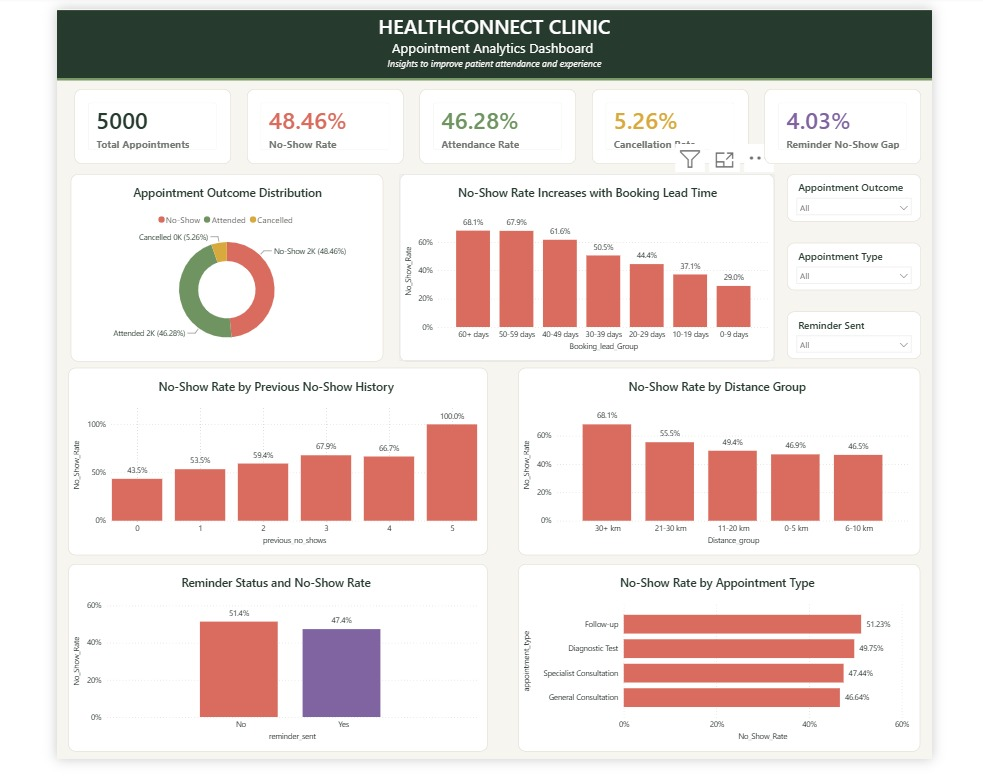

The dashboard page shown, as its layout file describes it:
{"tool":"powerbi","page":{"name":"HealthConnect Week 6 Dashboard","canvas":[1400,1200],"ordinal":3},"visuals":[{"type":"shape","box":[0,1.4,1400,110],"z":0},{"type":"textbox","title":"HEALTHCONNECT CLINIC","box":[0,0,1400,105.7],"z":1000},{"type":"shape","box":[0,105.7,1400,12.9],"z":2000},{"type":"cardVisual","fields":{"Data":["HealthConnect_Appointment_Data.Total_Appointments"]},"box":[27.1,128.1,250,120],"z":3000},{"type":"cardVisual","fields":{"Data":["HealthConnect_Appointment_Data.Attendance_Rate"]},"box":[579.3,128.1,250,120],"z":4000},{"type":"cardVisual","fields":{"Data":["HealthConnect_Appointment_Data.Cancellation_Rate"]},"box":[855.4,128.1,250,120],"z":5000},{"type":"cardVisual","fields":{"Data":["HealthConnect_Appointment_Data.No_Show_Rate"]},"box":[303.2,128.1,250,120],"z":6000},{"type":"donutChart","title":"Appointment Outcome Distribution","fields":{"Y":["HealthConnect_Appointment_Data.Total_Appointments"],"Category":["HealthConnect_Appointment_Data.appointment_outcome"]},"box":[21.4,263.7,500,300],"z":7000},{"type":"clusteredColumnChart","title":"No-Show Rate Increases with Booking Lead Time","fields":{"Category":["HealthConnect_Appointment_Data.Booking_lead_Group"],"Y":["HealthConnect_Appointment_Data.No_Show_Rate"]},"box":[548.6,263.7,600,300],"z":8000},{"type":"clusteredColumnChart","title":"No-Show Rate by Previous No-Show History","fields":{"Y":["HealthConnect_Appointment_Data.No_Show_Rate"],"Category":["HealthConnect_Appointment_Data.previous_no_shows"]},"box":[18.6,574.3,671.4,300],"z":9000},{"type":"clusteredColumnChart","title":"No-Show Rate by Distance Group","fields":{"Category":["HealthConnect_Appointment_Data.Distance_group"],"Y":["HealthConnect_Appointment_Data.No_Show_Rate"]},"box":[738.6,574.3,642.9,300],"z":10000},{"type":"clusteredColumnChart","title":"Reminder Status and No-Show Rate","fields":{"Category":["HealthConnect_Appointment_Data.reminder_sent"],"Y":["HealthConnect_Appointment_Data.No_Show_Rate"]},"box":[18.6,888.6,671.4,300],"z":11000},{"type":"clusteredBarChart","title":"No-Show Rate by Appointment Type","fields":{"Category":["HealthConnect_Appointment_Data.appointment_type"],"Y":["HealthConnect_Appointment_Data.No_Show_Rate"]},"box":[738.6,888.6,642.9,300],"z":12000},{"type":"slicer","fields":{"Values":["HealthConnect_Appointment_Data.appointment_outcome"]},"box":[1167.1,264.3,214.3,75.7],"z":13000},{"type":"slicer","fields":{"Values":["HealthConnect_Appointment_Data.appointment_type"]},"box":[1167.1,374.3,214.3,75.7],"z":14000},{"type":"slicer","fields":{"Values":["HealthConnect_Appointment_Data.reminder_sent"]},"box":[1167.1,484.3,214.3,75.7],"z":15000},{"type":"cardVisual","fields":{"Data":["HealthConnect_Appointment_Data.Reminder_No_Show_Gap"]},"box":[1131.4,128.1,250,120],"z":15001}]}

Visuals, with their boxes on the page's 1400x1200 design canvas (x1, y1, x2, y2). These are canvas units, not pixel positions in the 983x782 screenshot, which may show the page scaled, cropped or inside an application window:
shape: [0, 1, 1400, 111]
"HEALTHCONNECT CLINIC" textbox: [0, 0, 1400, 106]
shape: [0, 106, 1400, 119]
cardVisual - HealthConnect_Appointment_Data.Total_Appointments: [27, 128, 277, 248]
cardVisual - HealthConnect_Appointment_Data.Attendance_Rate: [579, 128, 829, 248]
cardVisual - HealthConnect_Appointment_Data.Cancellation_Rate: [855, 128, 1105, 248]
cardVisual - HealthConnect_Appointment_Data.No_Show_Rate: [303, 128, 553, 248]
"Appointment Outcome Distribution" donutChart: [21, 264, 521, 564]
"No-Show Rate Increases with Booking Lead Time" clusteredColumnChart: [549, 264, 1149, 564]
"No-Show Rate by Previous No-Show History" clusteredColumnChart: [19, 574, 690, 874]
"No-Show Rate by Distance Group" clusteredColumnChart: [739, 574, 1382, 874]
"Reminder Status and No-Show Rate" clusteredColumnChart: [19, 889, 690, 1189]
"No-Show Rate by Appointment Type" clusteredBarChart: [739, 889, 1382, 1189]
slicer - HealthConnect_Appointment_Data.appointment_outcome: [1167, 264, 1381, 340]
slicer - HealthConnect_Appointment_Data.appointment_type: [1167, 374, 1381, 450]
slicer - HealthConnect_Appointment_Data.reminder_sent: [1167, 484, 1381, 560]
cardVisual - HealthConnect_Appointment_Data.Reminder_No_Show_Gap: [1131, 128, 1381, 248]
